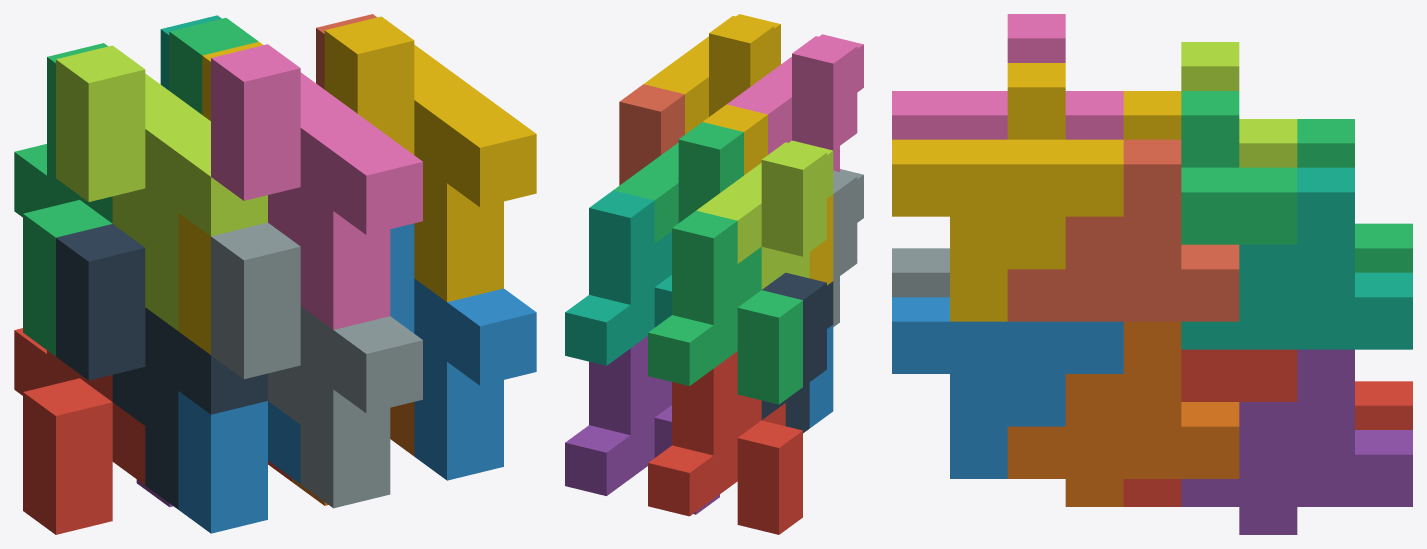
Rendered from tiling.obj.
3 views of the same model, side by side, from view 1: azimuth 30°, elevation 25°; view 2: azimuth 150°, elevation 25°; view 3: azimuth 270°, elevation 25° (orthographic). The views are drawn at different scales.
Visible parts, largest first — view 1: copy_2_domain_4, copy_2_domain_2, copy_2_domain_8, copy_2_domain_3, copy_2_domain_1, copy_2_domain_6, copy_1_domain_1, copy_1_domain_2, copy_1_domain_3, copy_1_domain_4, copy_2_domain_7, copy_1_domain_6 (+2 smaller); view 2: copy_1_domain_3, copy_1_domain_1, copy_1_domain_7, copy_2_domain_3, copy_1_domain_5, copy_2_domain_4, copy_2_domain_8, copy_2_domain_7, copy_1_domain_8, copy_2_domain_1, copy_1_domain_4, copy_2_domain_2 (+1 smaller); view 3: copy_2_domain_8, copy_1_domain_6, copy_1_domain_8, copy_1_domain_5, copy_1_domain_7, copy_2_domain_6, copy_2_domain_7, copy_2_domain_4, copy_2_domain_5, copy_2_domain_3, copy_1_domain_3, copy_2_domain_2 (+2 smaller).
Boxes of the visible parts, x1,y1,x2,y2 form: copy_2_domain_4: [211, 44, 422, 329]; copy_2_domain_2: [211, 222, 422, 508]; copy_2_domain_8: [324, 16, 536, 302]; copy_2_domain_3: [56, 45, 267, 330]; copy_2_domain_1: [56, 224, 267, 509]; copy_2_domain_6: [390, 223, 536, 480]; copy_1_domain_1: [14, 328, 145, 534]; copy_1_domain_2: [178, 391, 300, 533]; copy_1_domain_3: [14, 43, 112, 356]; copy_1_domain_4: [178, 42, 263, 354]; copy_2_domain_7: [169, 18, 258, 114]; copy_1_domain_6: [292, 402, 414, 505]; copy_1_domain_3: [648, 210, 802, 404]; copy_1_domain_1: [648, 351, 802, 534]; copy_1_domain_7: [565, 190, 671, 365]; copy_2_domain_3: [696, 140, 833, 289]; copy_1_domain_5: [565, 336, 719, 514]; copy_2_domain_4: [727, 34, 863, 171]; copy_2_domain_8: [643, 14, 780, 134]; copy_2_domain_7: [613, 122, 743, 243]; copy_1_domain_8: [619, 84, 684, 185]; copy_2_domain_1: [761, 272, 833, 433]; copy_1_domain_4: [703, 104, 833, 285]; copy_2_domain_2: [833, 169, 863, 326]; copy_2_domain_8: [892, 63, 1123, 321]; copy_1_domain_6: [1007, 321, 1239, 506]; copy_1_domain_8: [1007, 139, 1239, 321]; copy_1_domain_5: [1181, 349, 1412, 534]; copy_1_domain_7: [1181, 167, 1412, 349]; copy_2_domain_6: [892, 297, 1123, 478]; copy_2_domain_7: [1181, 91, 1297, 244]; copy_2_domain_4: [892, 14, 1123, 139]; copy_2_domain_5: [1123, 349, 1297, 506]; copy_2_domain_3: [1181, 42, 1297, 167]; copy_1_domain_3: [1297, 119, 1412, 272]; copy_2_domain_2: [892, 248, 949, 297].
Bounding box in the file's own units: 5 × 9 × 9.
